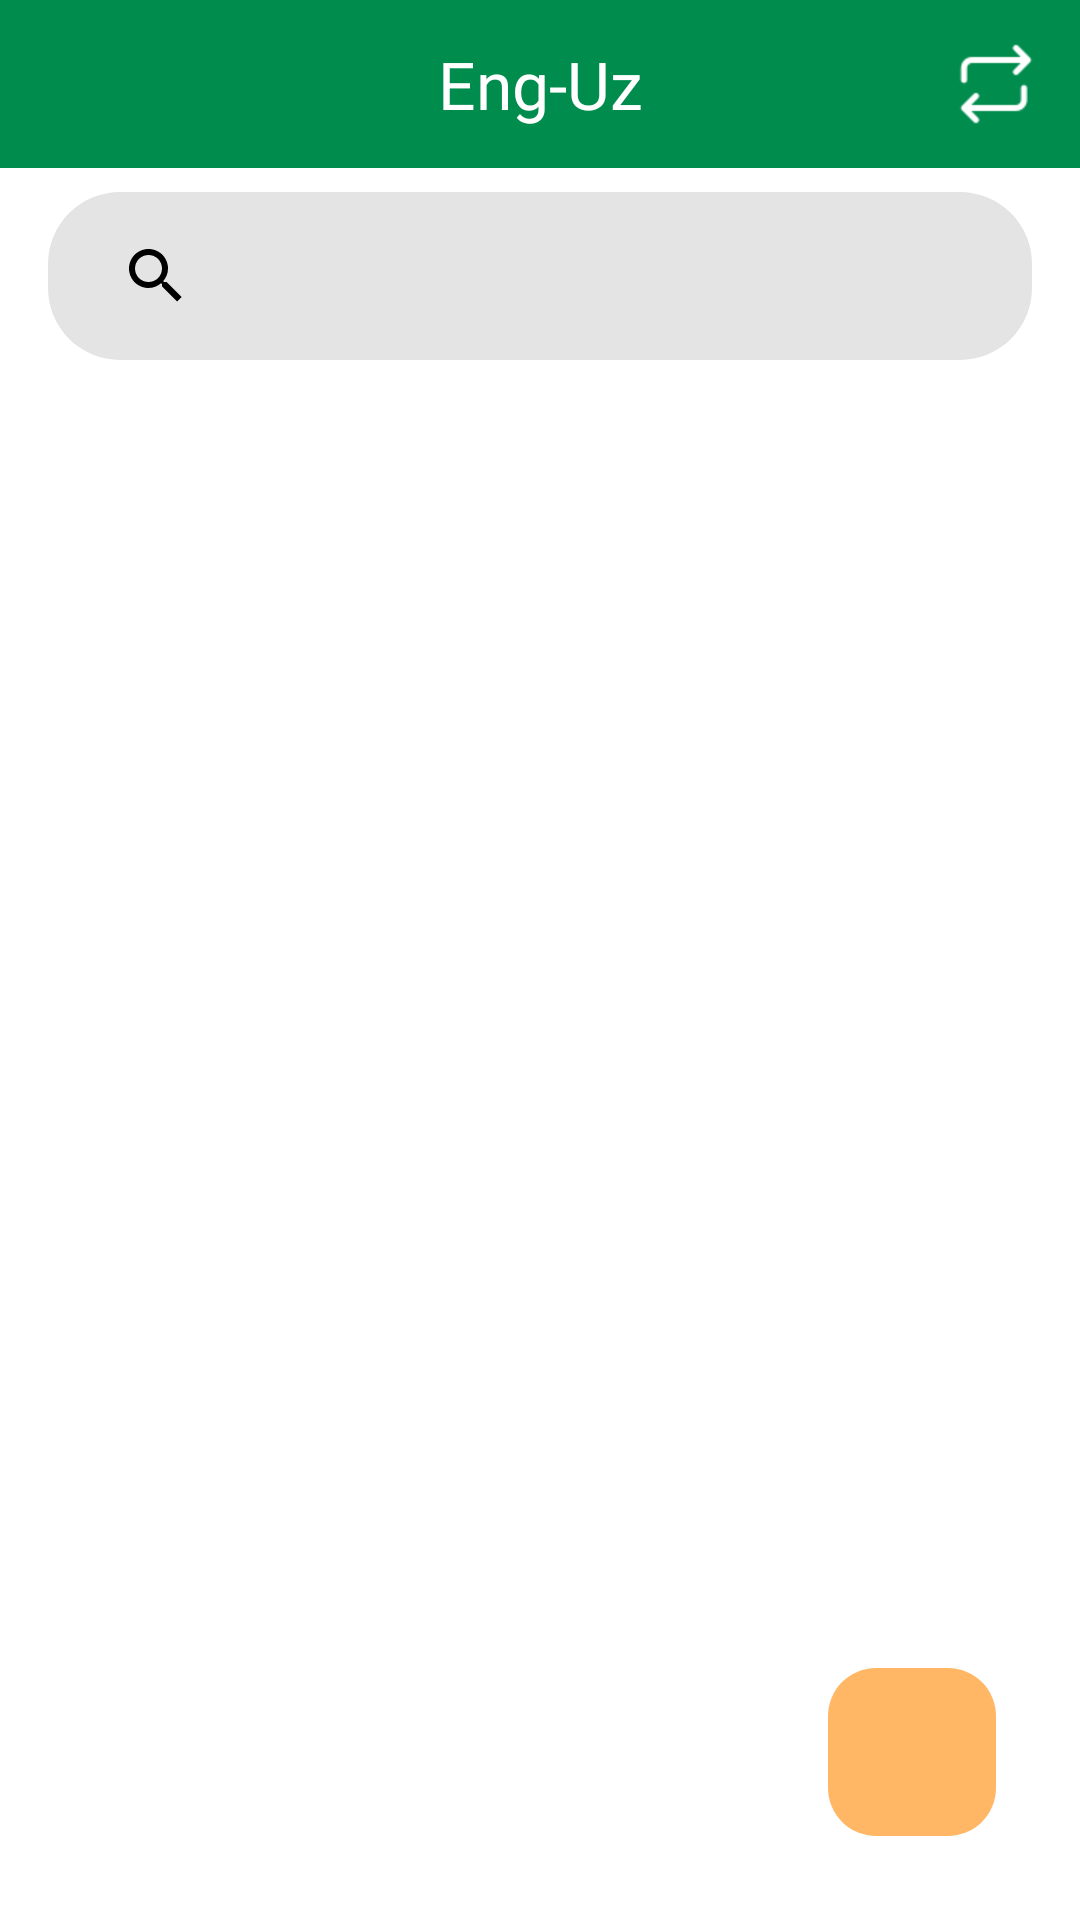

Point at icon controls on the screen. Image size 1080w x 1920h, points as (x=x, y=y).
search api: (x=155, y=275)
transfer lang: (x=996, y=84)
